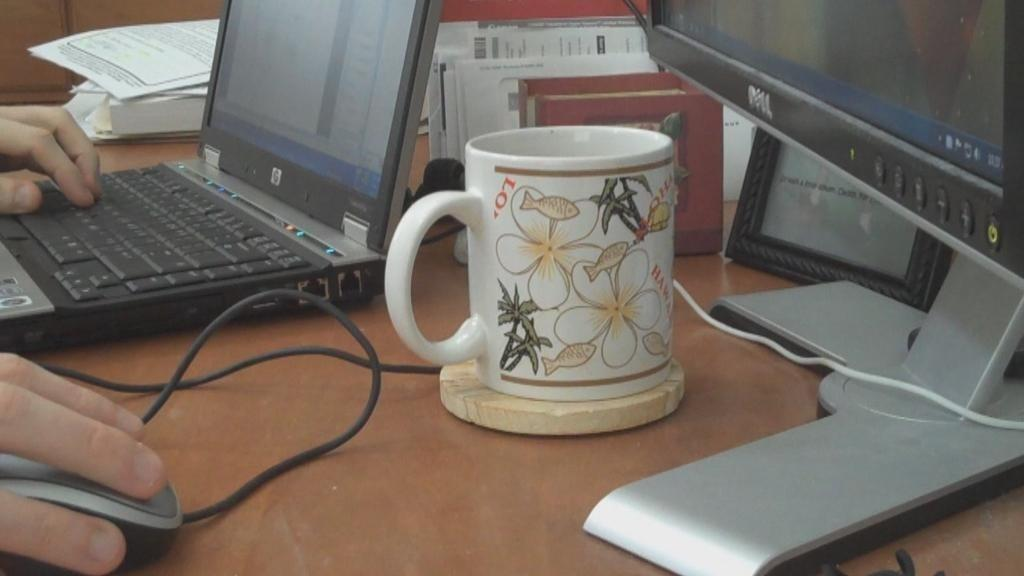cup-handle: (386, 120, 680, 402)
